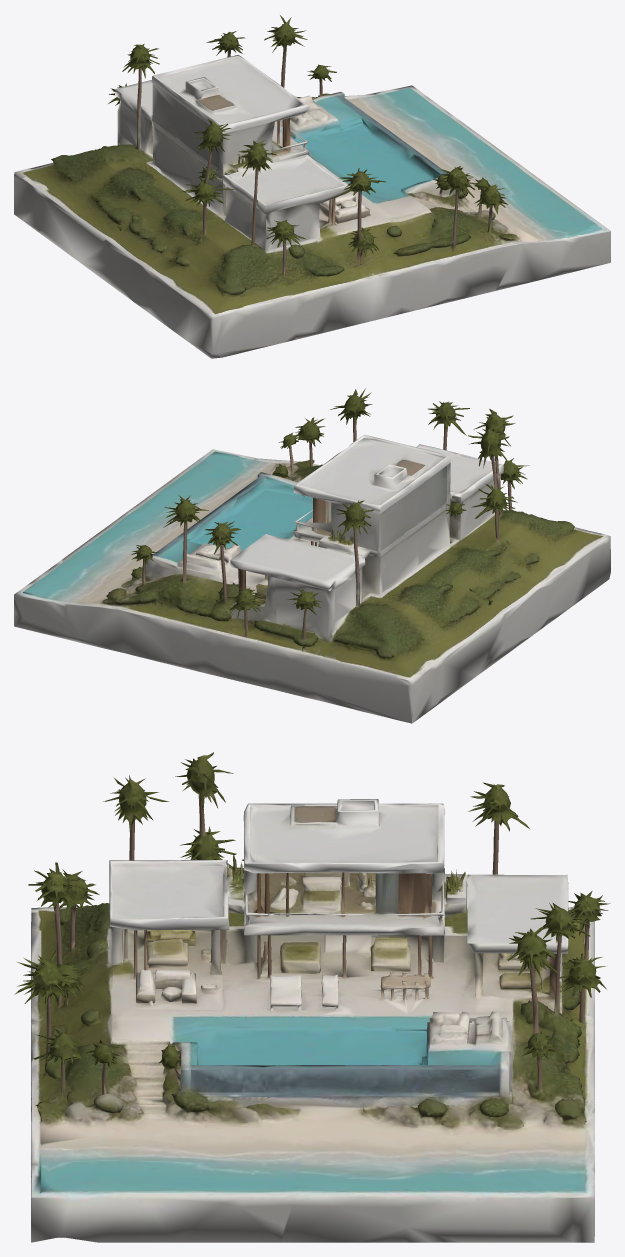
File: home-villa-hf.glb
The picture shows the model from 3 angles, top to bottom: view 1: azimuth 30°, elevation 25°; view 2: azimuth 150°, elevation 25°; view 3: azimuth 270°, elevation 25°; orthographic projection. The views are drawn at different scales.
Visible parts, largest first — view 1: tripo_node_b2f1954f-6ea0-4b50-a208-148a9ed0d596; view 2: tripo_node_b2f1954f-6ea0-4b50-a208-148a9ed0d596; view 3: tripo_node_b2f1954f-6ea0-4b50-a208-148a9ed0d596.
Boxes of the visible parts, bbox=[...] form: tripo_node_b2f1954f-6ea0-4b50-a208-148a9ed0d596: bbox=[14, 15, 610, 358]; tripo_node_b2f1954f-6ea0-4b50-a208-148a9ed0d596: bbox=[14, 388, 610, 723]; tripo_node_b2f1954f-6ea0-4b50-a208-148a9ed0d596: bbox=[14, 752, 610, 1242].
Bounding box in the file's own units: 0.9999 × 0.4332 × 0.9151.
1 material, 1 textured.
